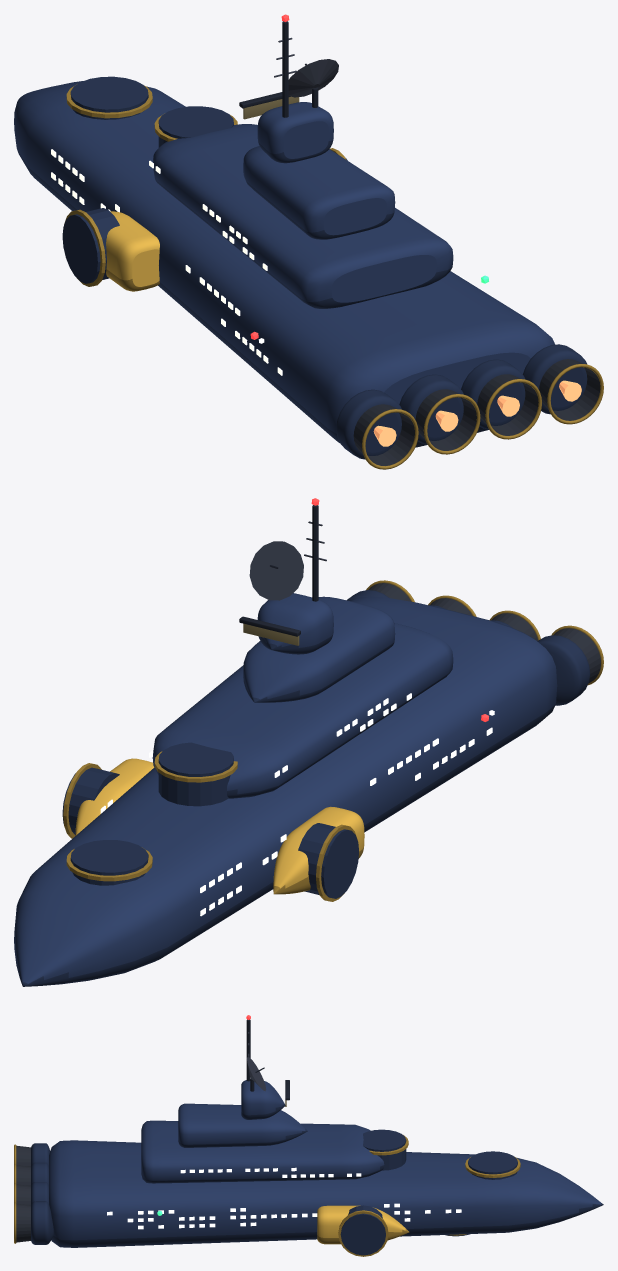
File: monarch.glb
3 renders of one model, top to bottom at view 1: azimuth 30°, elevation 25°; view 2: azimuth 150°, elevation 25°; view 3: azimuth 270°, elevation 25°, orthographic. The views are drawn at different scales.
Visible parts, largest first — view 1: monarch_mesh, radar_mesh; view 2: monarch_mesh, radar_mesh; view 3: monarch_mesh, radar_mesh.
Boxes of the visible parts, <box> form: monarch_mesh: <box>14,21,603,469</box>; radar_mesh: <box>288,59,338,107</box>; monarch_mesh: <box>14,505,603,986</box>; radar_mesh: <box>249,541,303,600</box>; monarch_mesh: <box>14,1019,603,1256</box>; radar_mesh: <box>247,1057,266,1091</box>.
Size of the model in its own units: 10.43 by 12.56 by 31.88.
